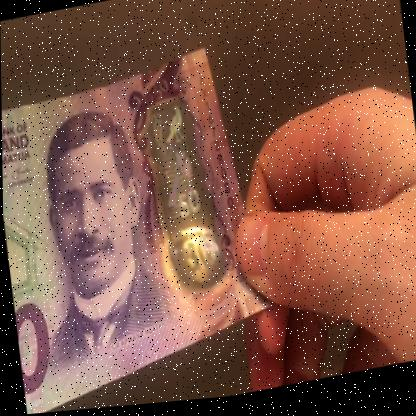50F: (146, 102, 220, 295)
